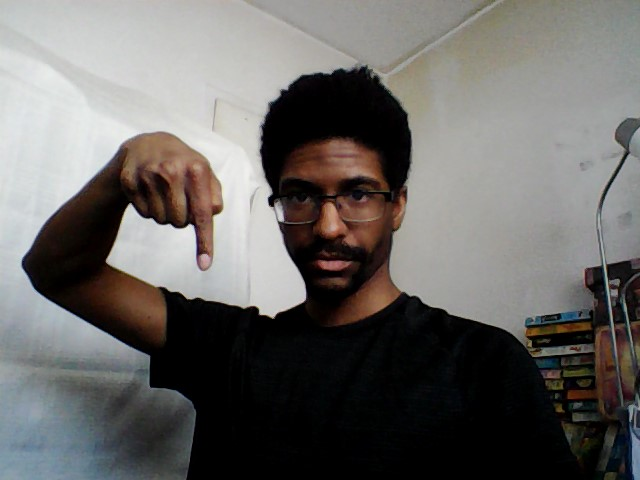q: (115, 124, 228, 278)
